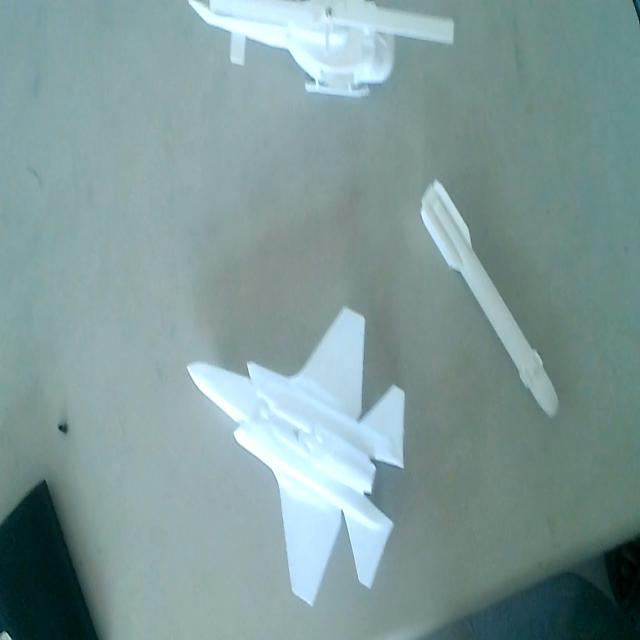Helicopter: (179, 0, 463, 101)
Jet: (175, 297, 407, 608)
Rocket: (420, 172, 562, 422)
